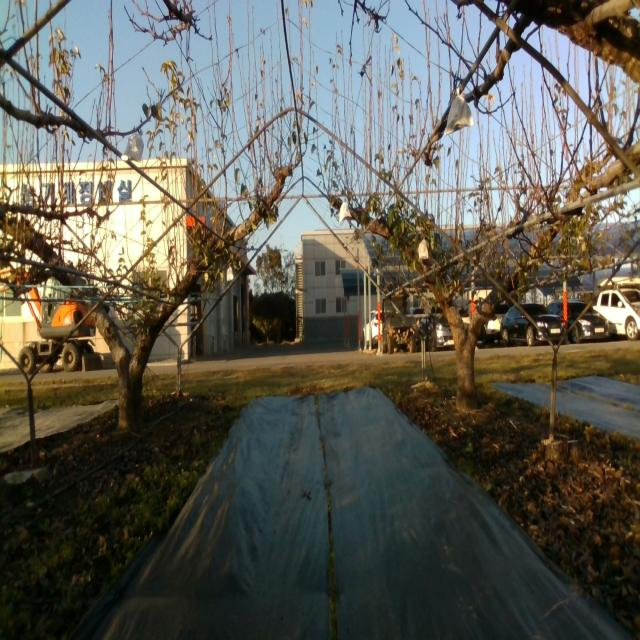pearbags: (444, 87, 474, 140), (120, 127, 144, 163), (339, 202, 352, 224), (418, 237, 429, 262)
